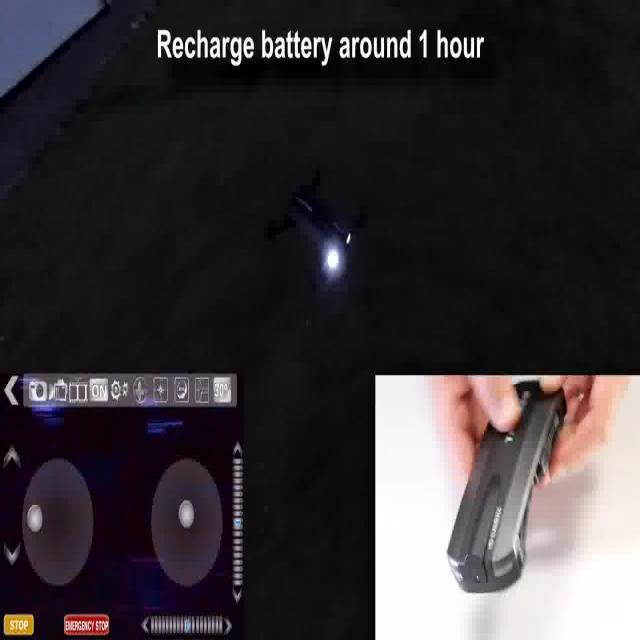drones: (259, 152, 383, 326)
